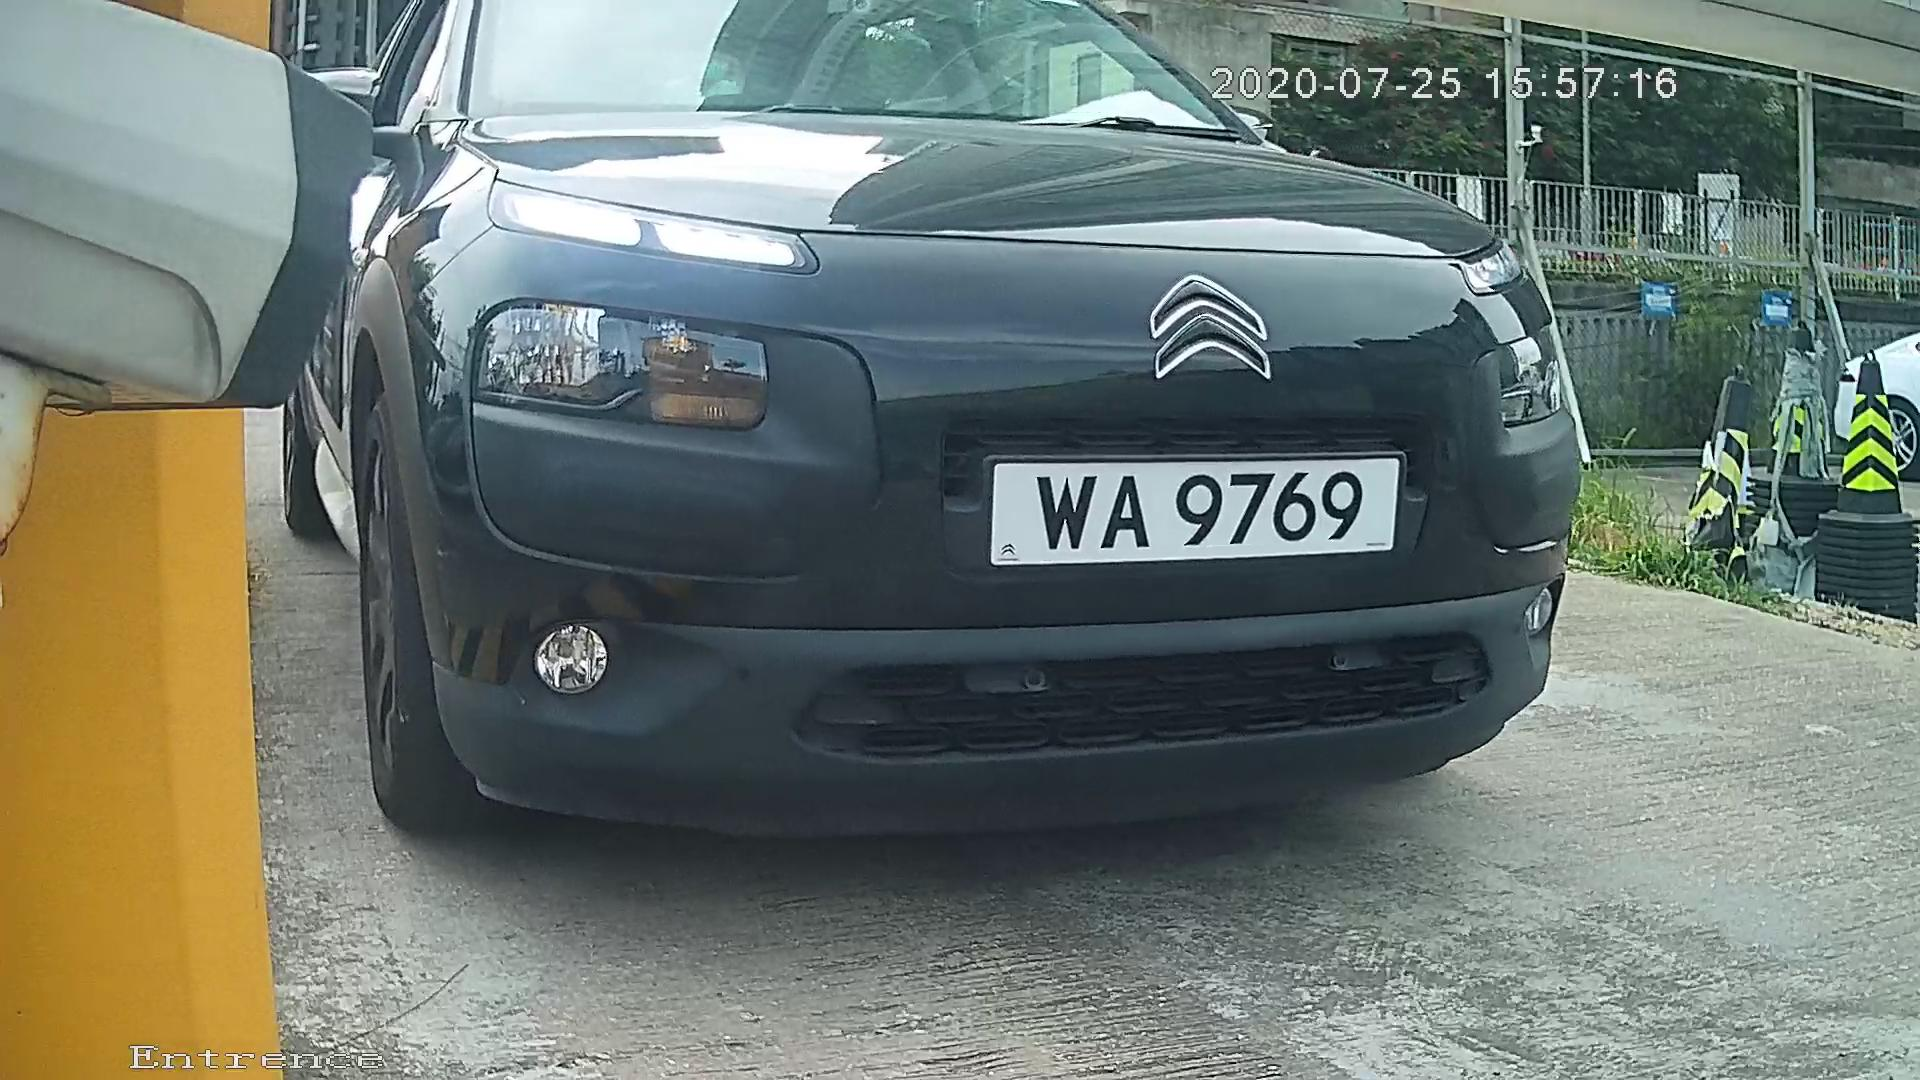Car: (112, 5, 1723, 854)
License Plate: (978, 439, 1423, 584)
